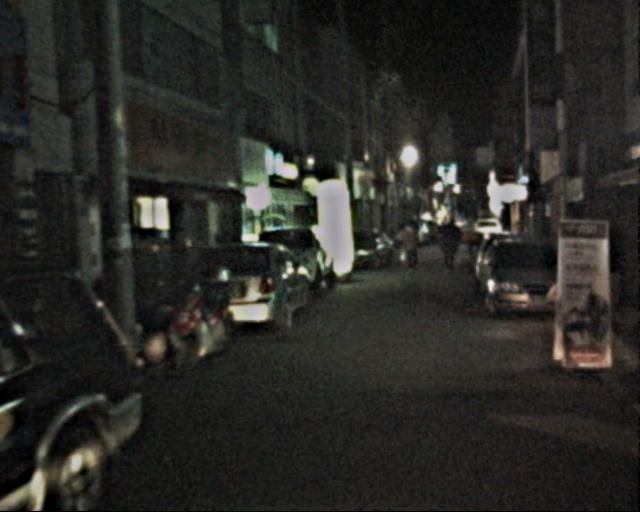person: (403, 220, 429, 281), (439, 219, 465, 279)
